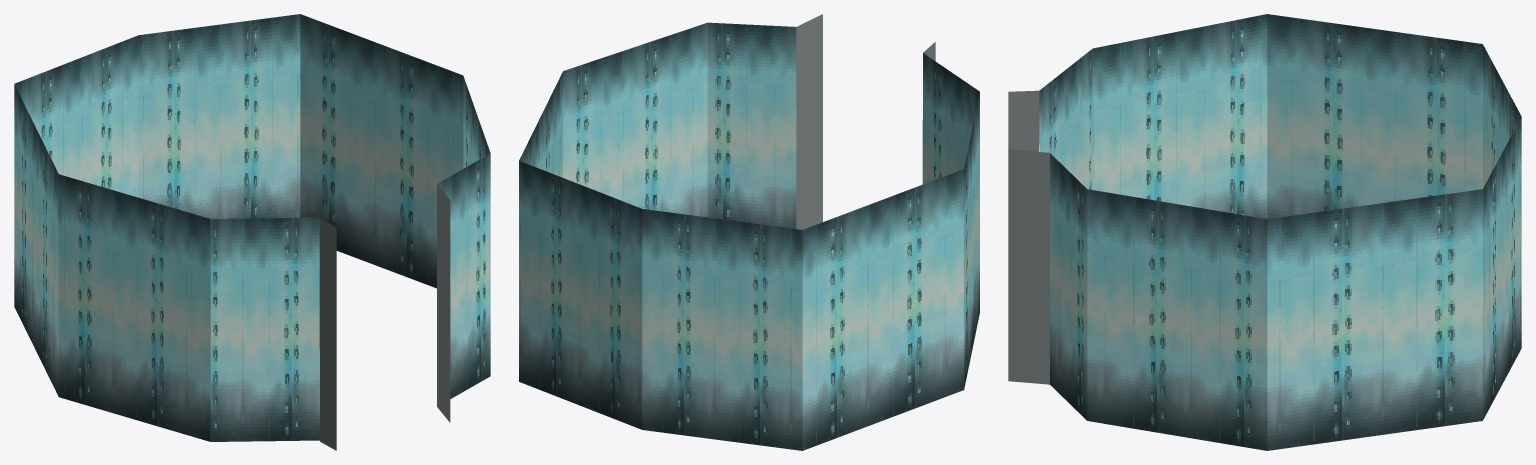
Rendered from W_AI_treppen_min_2820.glb.
3 renders of one model, left to right at view 1: azimuth 30°, elevation 25°; view 2: azimuth 150°, elevation 25°; view 3: azimuth 270°, elevation 25°, orthographic. The views are drawn at different scales.
Visible parts, largest first — view 1: pCylinderShape127, polySurfaceShape1204, polySurfaceShape1205; view 2: pCylinderShape127, polySurfaceShape1205; view 3: pCylinderShape127, polySurfaceShape1205, polySurfaceShape1204.
Boxes of the visible parts, left/top/right/bottom form: pCylinderShape127: left=14, top=14, right=490, bottom=441; polySurfaceShape1204: left=319, top=218, right=336, bottom=450; polySurfaceShape1205: left=437, top=184, right=450, bottom=422; pCylinderShape127: left=519, top=22, right=979, bottom=450; polySurfaceShape1205: left=796, top=14, right=822, bottom=229; pCylinderShape127: left=1039, top=14, right=1521, bottom=450; polySurfaceShape1205: left=1008, top=149, right=1049, bottom=384; polySurfaceShape1204: left=1008, top=90, right=1039, bottom=151.
Bounding box in the file's own units: 0.7387 × 0.3906 × 0.7812.
3 materials, 1 textured.
